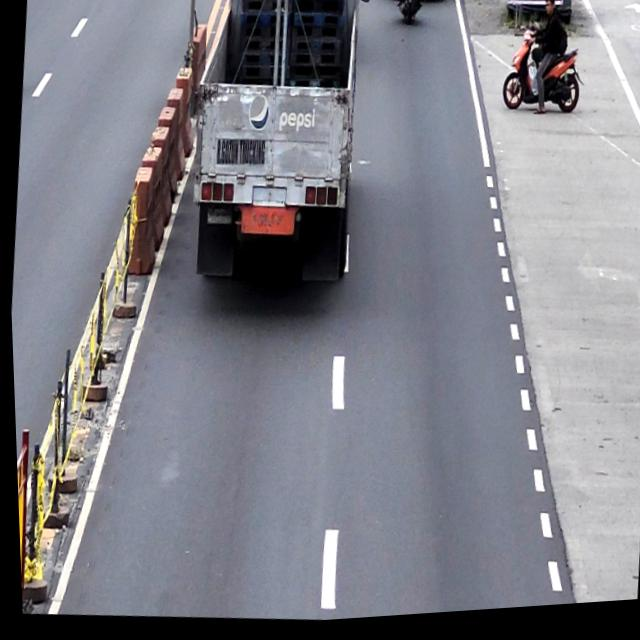Truck: (184, 0, 373, 301)
